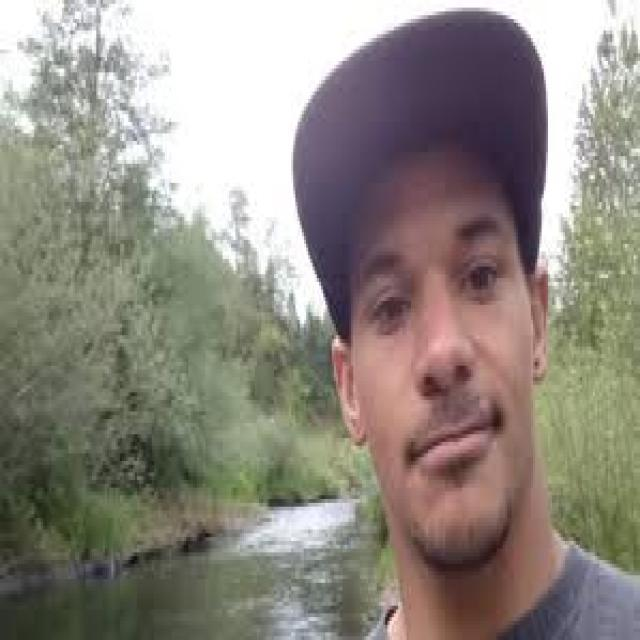cap: (293, 11, 552, 568)
